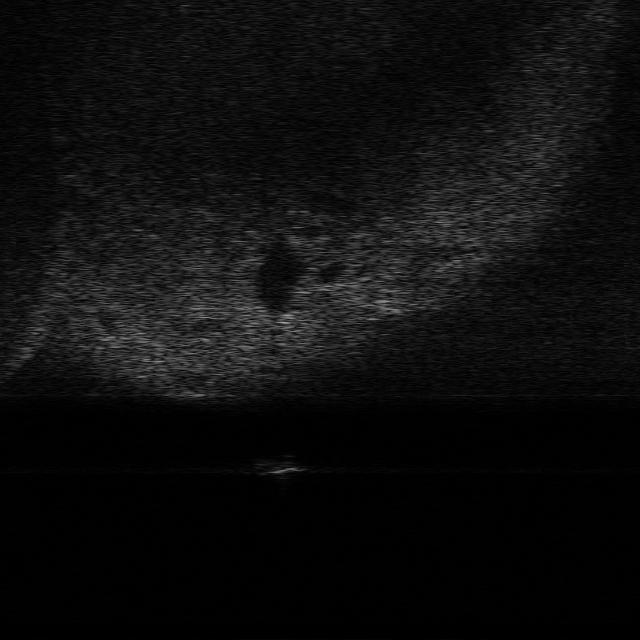cube: (250, 456, 306, 475)
